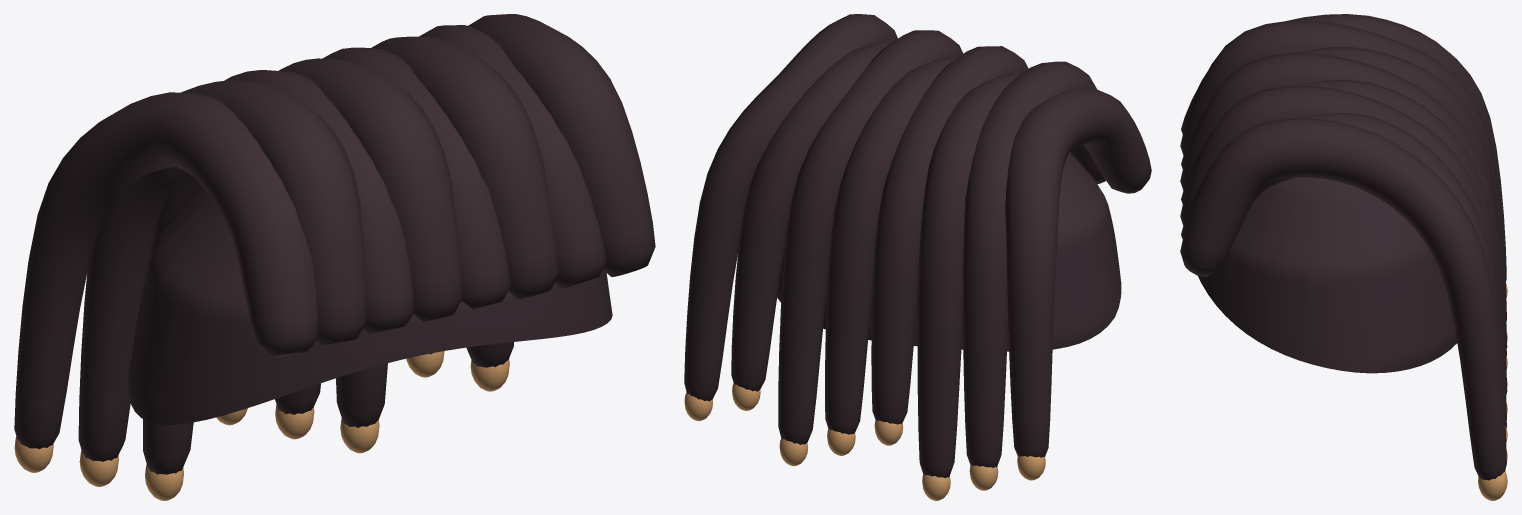
File: studio_dreadlocks_medium.glb
The picture shows the model from 3 angles, left to right: view 1: azimuth 30°, elevation 25°; view 2: azimuth 150°, elevation 25°; view 3: azimuth 270°, elevation 25°; orthographic projection. The views are drawn at different scales.
Parts seen in each view (by area): view 1: dreadlocks; view 2: dreadlocks; view 3: dreadlocks.
Part boxes in pixels (x1,y1,x2,y2): dreadlocks: [14, 14, 655, 500]; dreadlocks: [684, 14, 1151, 500]; dreadlocks: [1180, 14, 1507, 500].
Bounding box in the file's own units: 0.5188 × 0.4986 × 0.3956.
